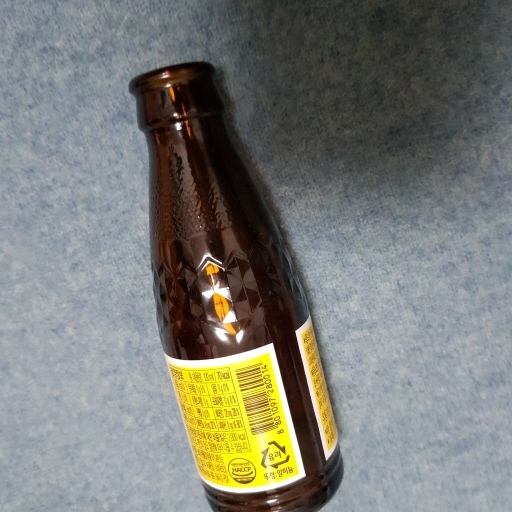Glass_3: (124, 59, 346, 512)
